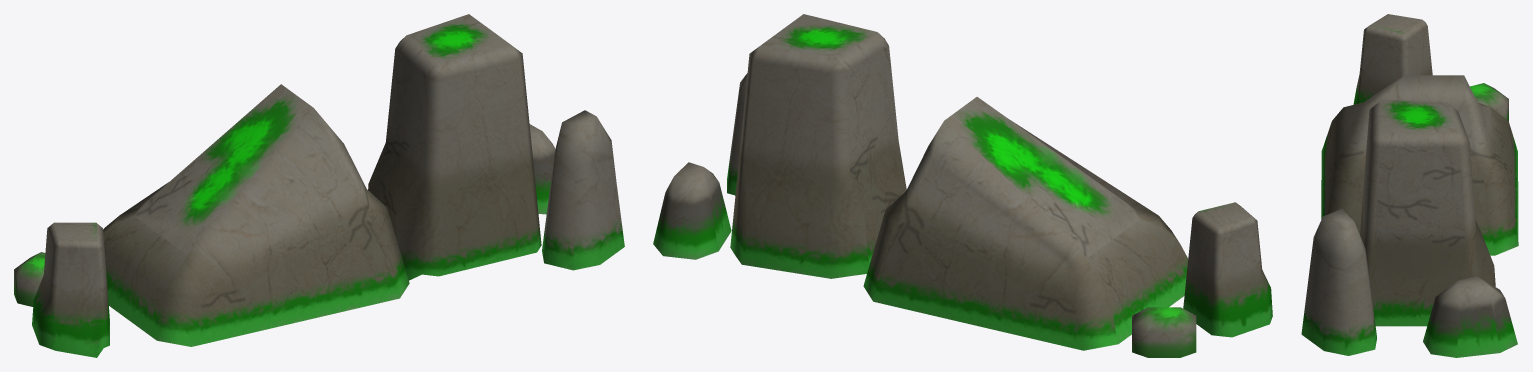
The model's file is ms_WallRocks02.fbx.
The picture shows the model from 3 angles, left to right: view 1: azimuth 30°, elevation 25°; view 2: azimuth 150°, elevation 25°; view 3: azimuth 270°, elevation 25°; orthographic projection. The views are drawn at different scales.
Parts seen in each view (by area): view 1: polySurface6; view 2: polySurface6; view 3: polySurface6.
Boxes of the visible parts, <box> form: polySurface6: <box>14,14,624,357</box>; polySurface6: <box>653,14,1272,357</box>; polySurface6: <box>1301,14,1518,357</box>.
Size of the model in its own units: 412 by 149 by 151.
